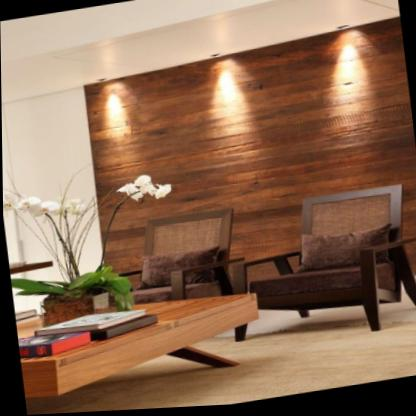Chair: (225, 177, 416, 355)
Wall Panel: (81, 20, 416, 271)
